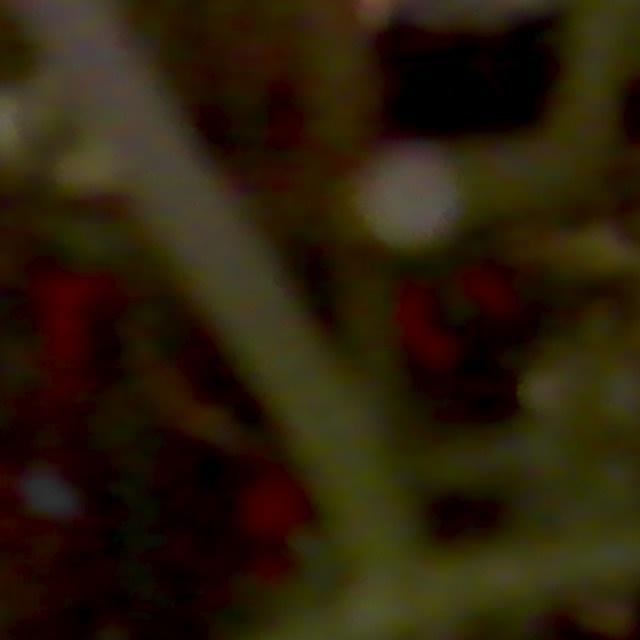SeaGrape: (517, 357, 593, 429), (587, 355, 640, 438)
